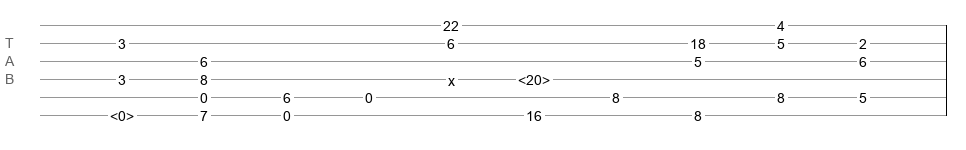0: (200, 90, 208, 100), (283, 108, 291, 118), (365, 90, 373, 100)
16: (526, 108, 542, 118)
18: (690, 36, 706, 46)
2: (859, 36, 867, 46)
22: (443, 18, 459, 28)
3: (118, 72, 126, 82), (118, 36, 126, 46)
4: (777, 18, 785, 28)
5: (694, 54, 702, 64), (777, 36, 785, 46), (859, 90, 867, 100)
6: (200, 54, 208, 64), (283, 90, 291, 100), (447, 36, 455, 46), (859, 54, 867, 64)
7: (200, 108, 208, 118)
8: (200, 72, 208, 82), (612, 90, 620, 100), (694, 108, 702, 118), (777, 90, 785, 100)
harmonic: (518, 72, 550, 82), (110, 108, 134, 118)
x: (448, 73, 455, 81)
